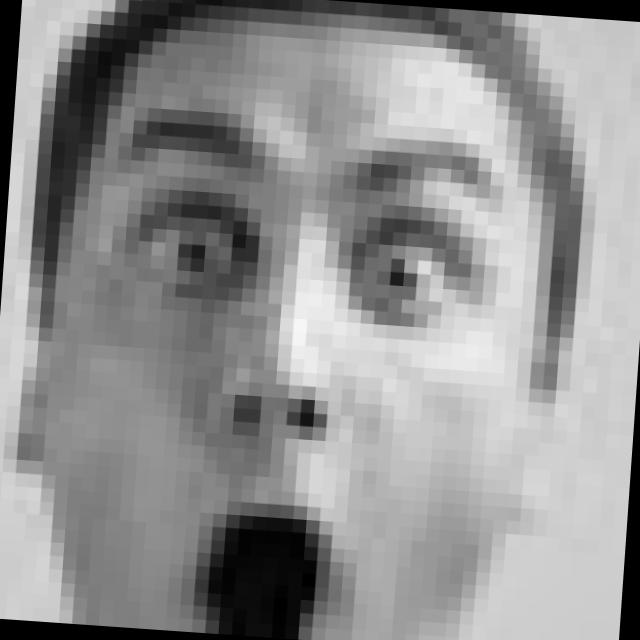surprise: (71, 109, 517, 640)
